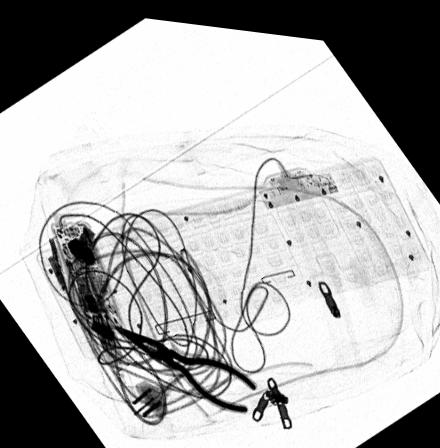Pliers: (113, 320, 257, 406)
